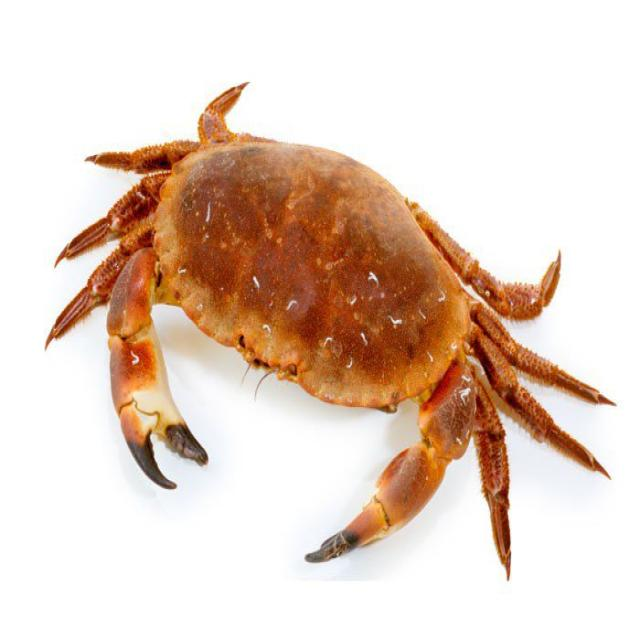crab: (140, 101, 453, 424)
